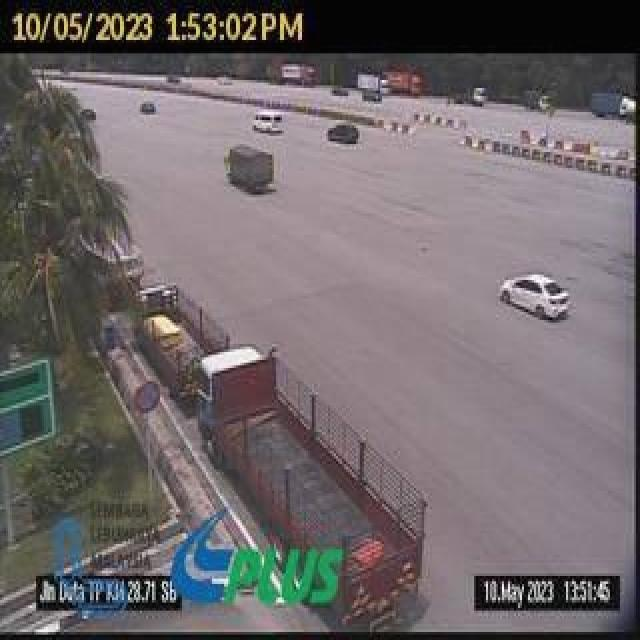Car: (480, 254, 587, 338), (120, 92, 172, 132), (323, 120, 363, 162)
Truck: (187, 318, 448, 632), (112, 241, 238, 390), (219, 136, 287, 199)
Van: (255, 102, 290, 144)
